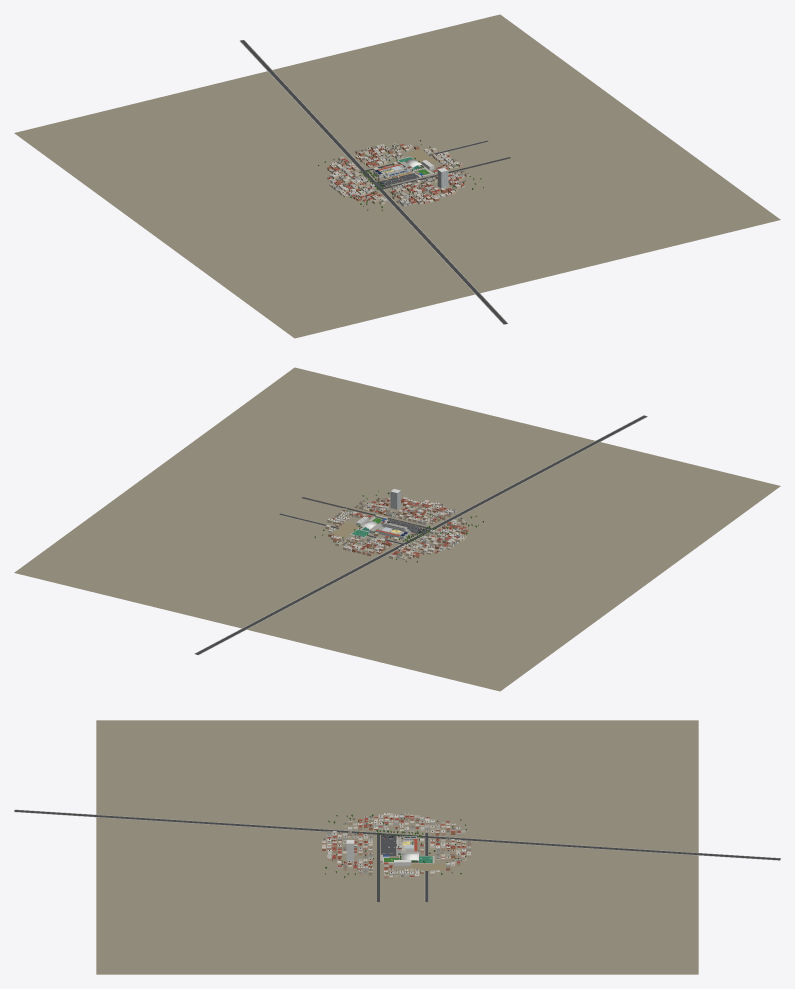
The model's file is colegio.glb.
The picture shows the model from 3 angles, top to bottom: view 1: azimuth 30°, elevation 25°; view 2: azimuth 150°, elevation 25°; view 3: azimuth 270°, elevation 25°; orthographic projection. The views are drawn at different scales.
Visible parts, largest first — view 1: vecindario; view 2: vecindario; view 3: vecindario.
Boxes of the visible parts, x1,y1,x2,y2 form: vecindario: (14,14,780,338); vecindario: (14,367,780,691); vecindario: (14,720,780,974).
Size of the model in its own units: 1400 by 146 by 1782.
Materials: 84 (5 with a texture image).
